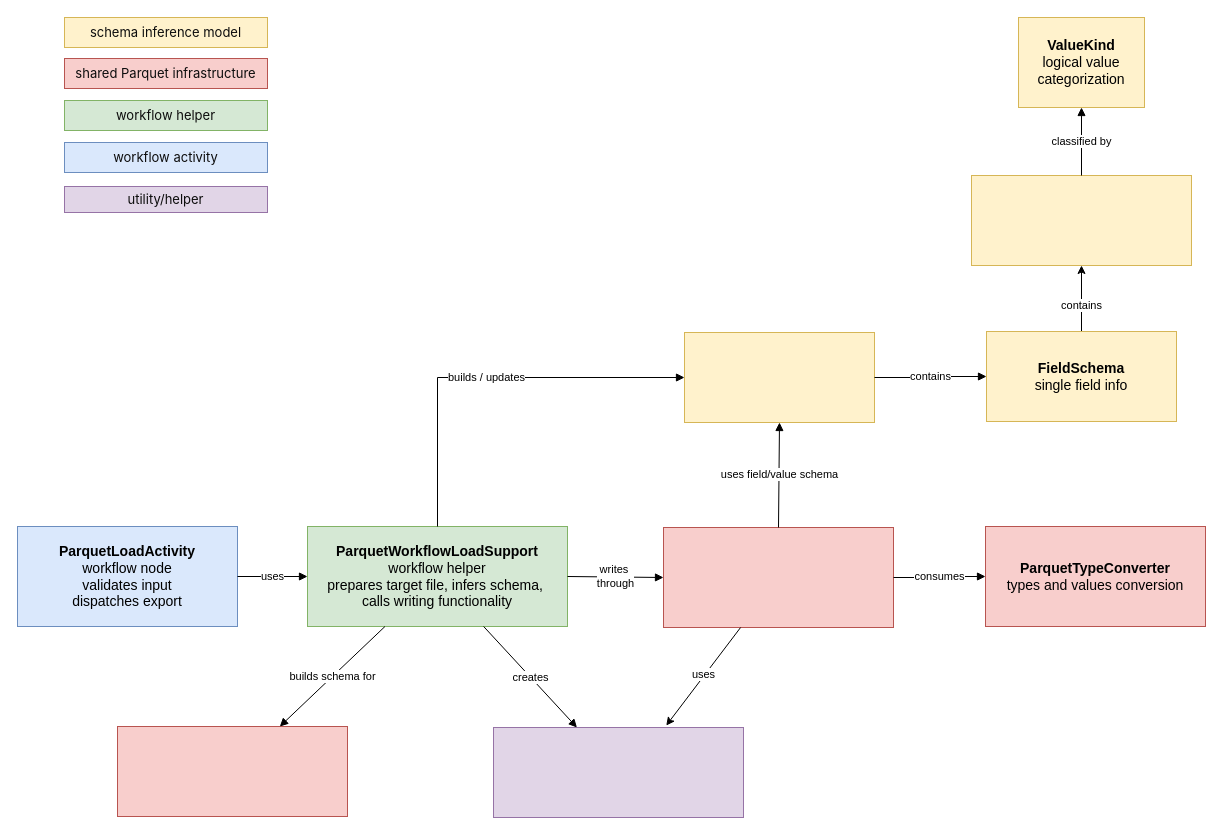
Image size: 1223x835. Some labels were removed from this diagram. The shapes that lost their labels are listed below. From the top down, each one's box as (x1, y1, x2, y2) in pixels, then its label:
(970, 174, 1192, 266): ValueSchema single value info: primitive / group / repeated
(684, 332, 874, 422): SchemaState accumulates inferred field definitions
(662, 526, 894, 628): ParquetSourceWriter low-level Parquet writer creates groups, writes rows
(116, 726, 348, 816): ParquetMessageTypeBuilder builds MessageType from inferred schema
(492, 726, 744, 818): BufferedIterator replays sampled rows/documents then remaining input
